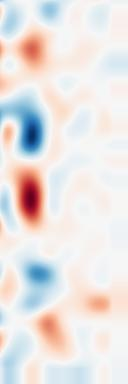filament: (8, 161, 54, 233)
